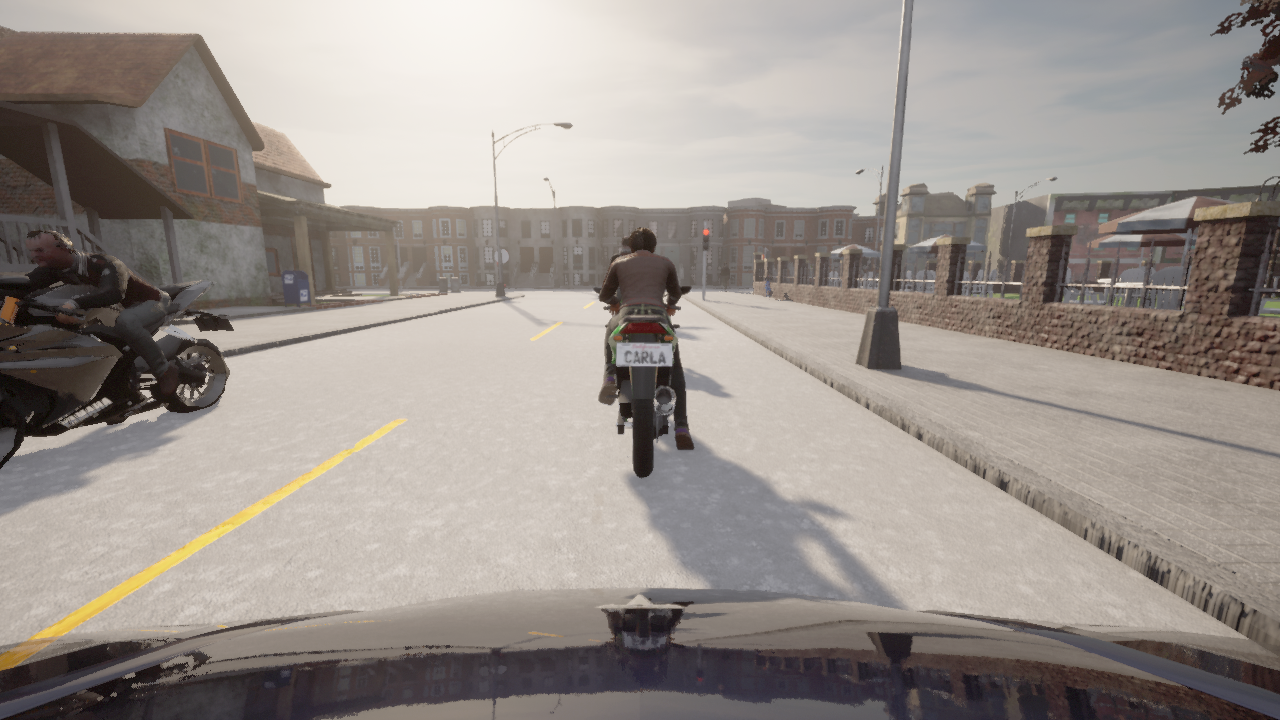cyclist: (0, 588, 1279, 719), (0, 274, 232, 470), (594, 286, 690, 477)
pedestrian: (719, 262, 728, 291), (763, 271, 772, 299), (809, 260, 815, 281)
